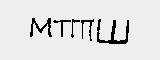Е: (98, 20, 114, 37)
З: (23, 20, 40, 38)
Н: (114, 21, 134, 37), (60, 21, 79, 36)
Я: (78, 21, 96, 36)
Қ: (43, 21, 59, 40)
